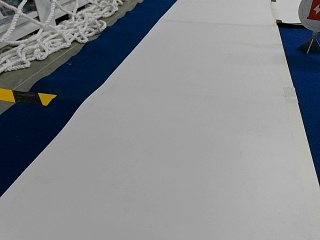battery: (298, 0, 319, 30)
